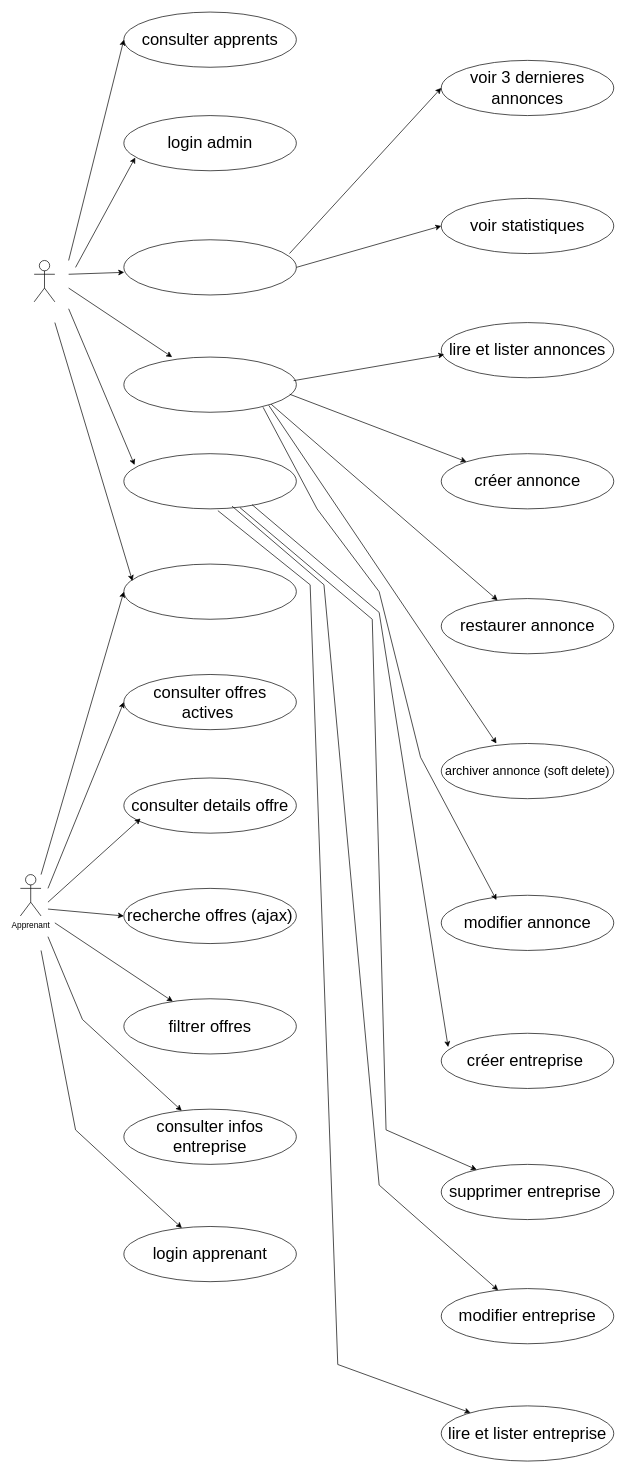
Some shapes in this 626 by 1473 pixel diagram are drawn without their labels. The centre of each missing label's shape, as x and y in pixels:
"accéder dashboard" belongs at [209,267].
"Administrateur" belongs at [44,281].
"gerer annonce" belongs at [209,384].
"gerer entreprises" belongs at [209,481].
"logout" belongs at [209,591].
